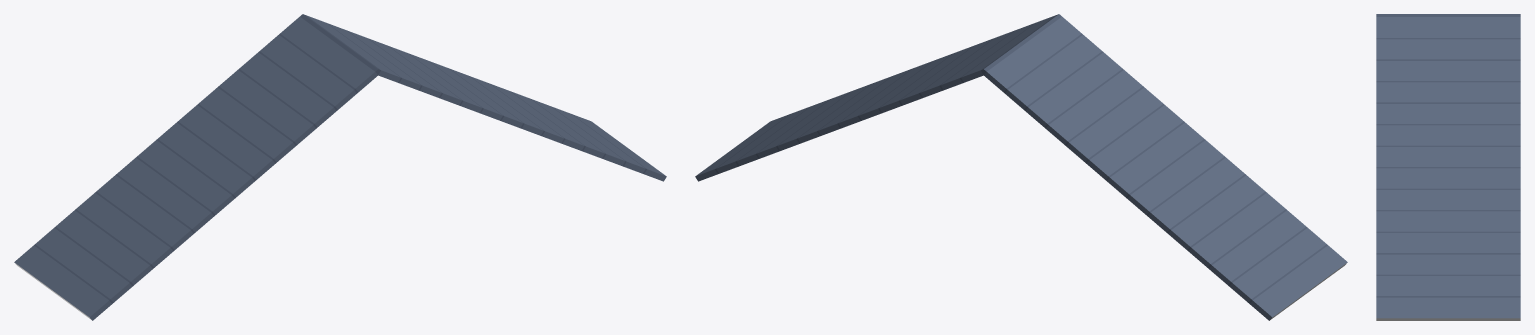
Rendered from Roof4_C4_01.fbx.
3 views of the same model, side by side, from view 1: azimuth 30°, elevation 25°; view 2: azimuth 150°, elevation 25°; view 3: azimuth 270°, elevation 25° (orthographic). The views are drawn at different scales.
Parts seen in each view (by area): view 1: Roof4_C4_01; view 2: Roof4_C4_01; view 3: Roof4_C4_01.
Part boxes in pixels (x1,y1,x2,y2): Roof4_C4_01: (14, 14, 666, 320); Roof4_C4_01: (695, 14, 1347, 320); Roof4_C4_01: (1376, 14, 1520, 320).
Size of the model in its own units: 1105 by 333 by 250.
